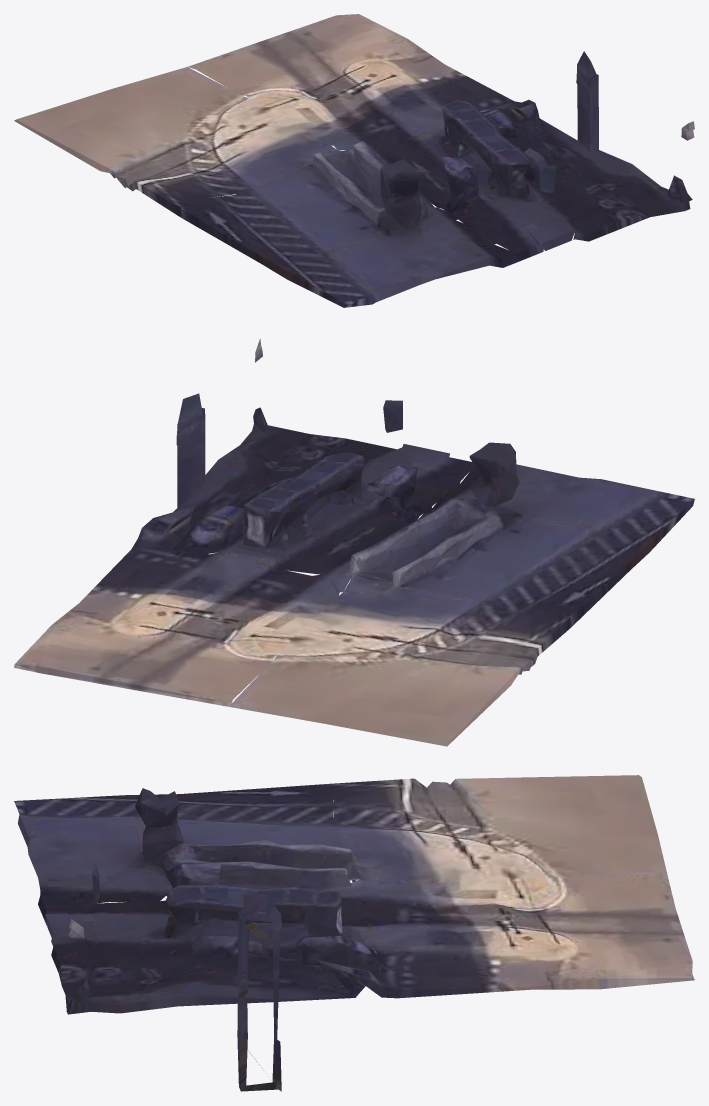
3 views of the same model, one above another, from view 1: azimuth 30°, elevation 25°; view 2: azimuth 150°, elevation 25°; view 3: azimuth 270°, elevation 25° (orthographic). The views are drawn at different scales.
Visible parts, largest first — view 1: Mesh_0; view 2: Mesh_0; view 3: Mesh_0.
Boxes of the visible parts, bbox=[...] form: Mesh_0: bbox=[14, 14, 694, 307]; Mesh_0: bbox=[14, 338, 694, 746]; Mesh_0: bbox=[14, 775, 694, 1091].
Bounding box in the file's own units: 33.77 × 13.24 × 41.33.
Materials: 1 (1 with a texture image).
